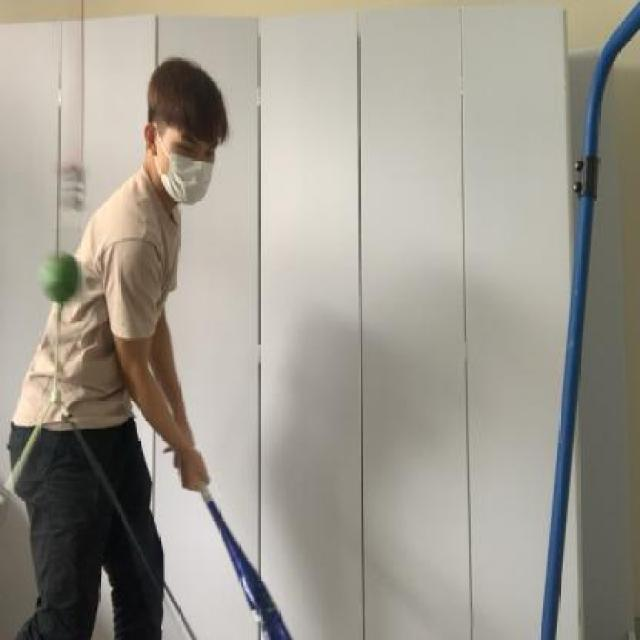baseball: (36, 240, 87, 314)
